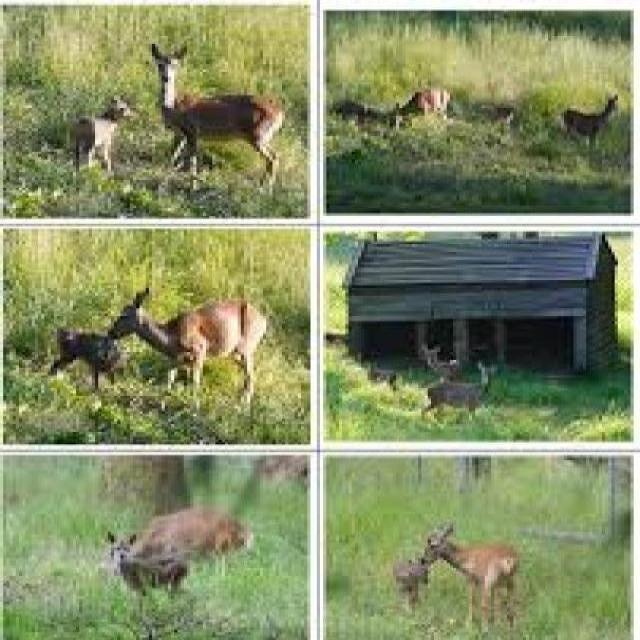deer: (147, 29, 290, 183), (111, 282, 288, 399), (416, 529, 559, 634), (98, 506, 212, 610)
